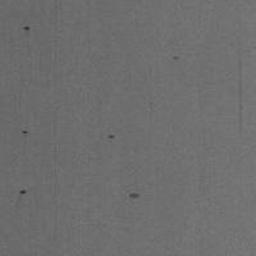Inclusion: (237, 52, 243, 128), (128, 192, 141, 200), (23, 24, 32, 33), (106, 133, 116, 141), (19, 189, 27, 195)
